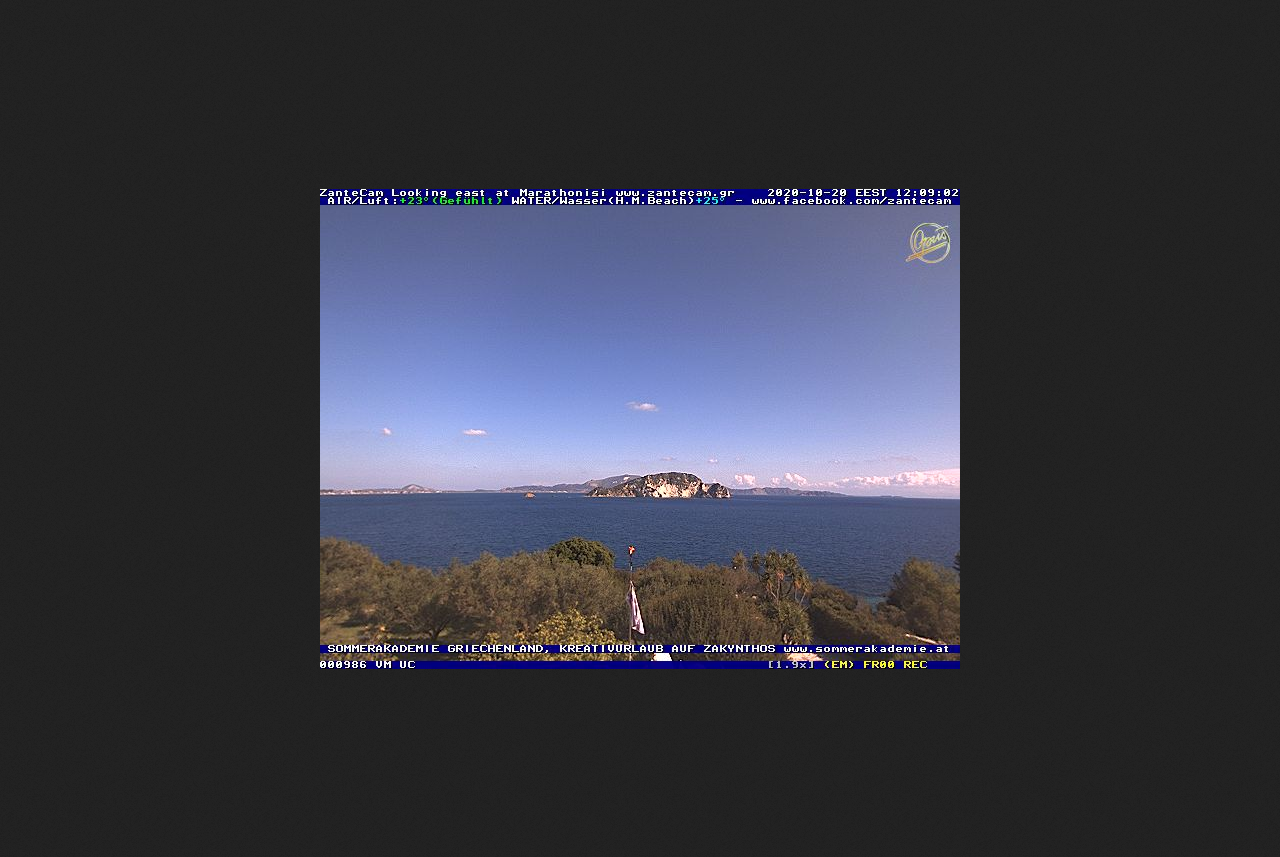no: (628, 581, 650, 634)
